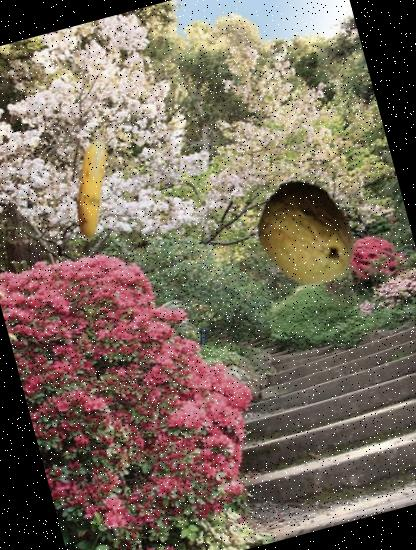Banana: (27, 124, 156, 253)
Papaya: (239, 166, 375, 302)
